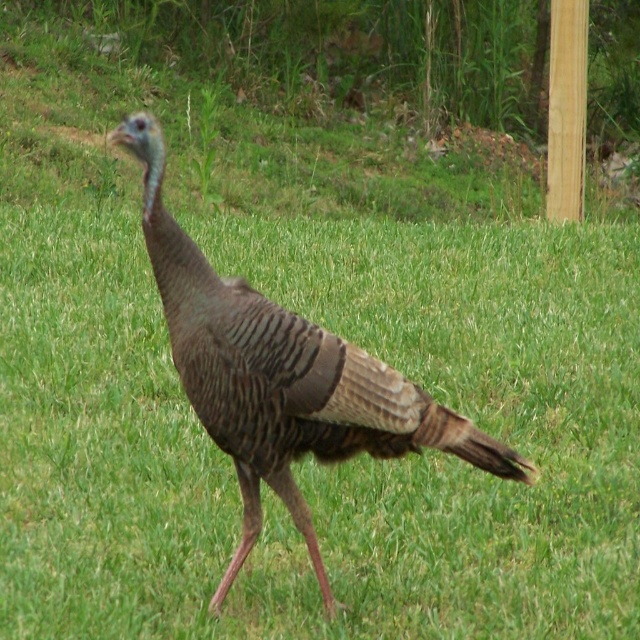Turkey: (106, 106, 539, 628)
